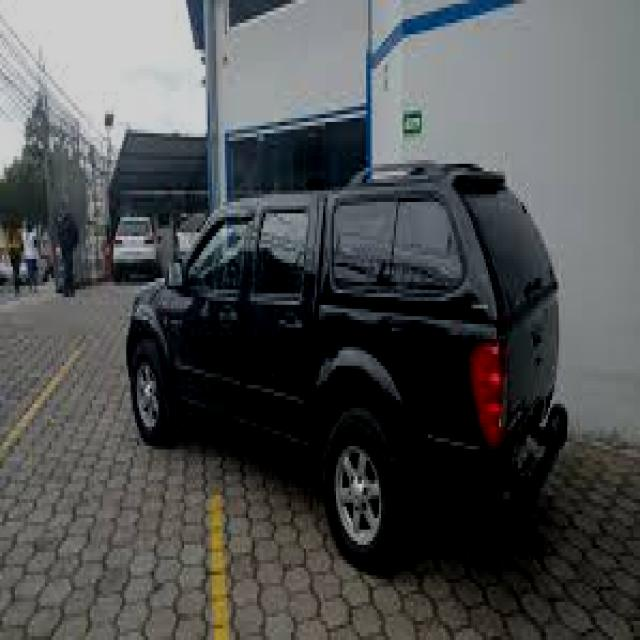CMT: (113, 184, 566, 548)
